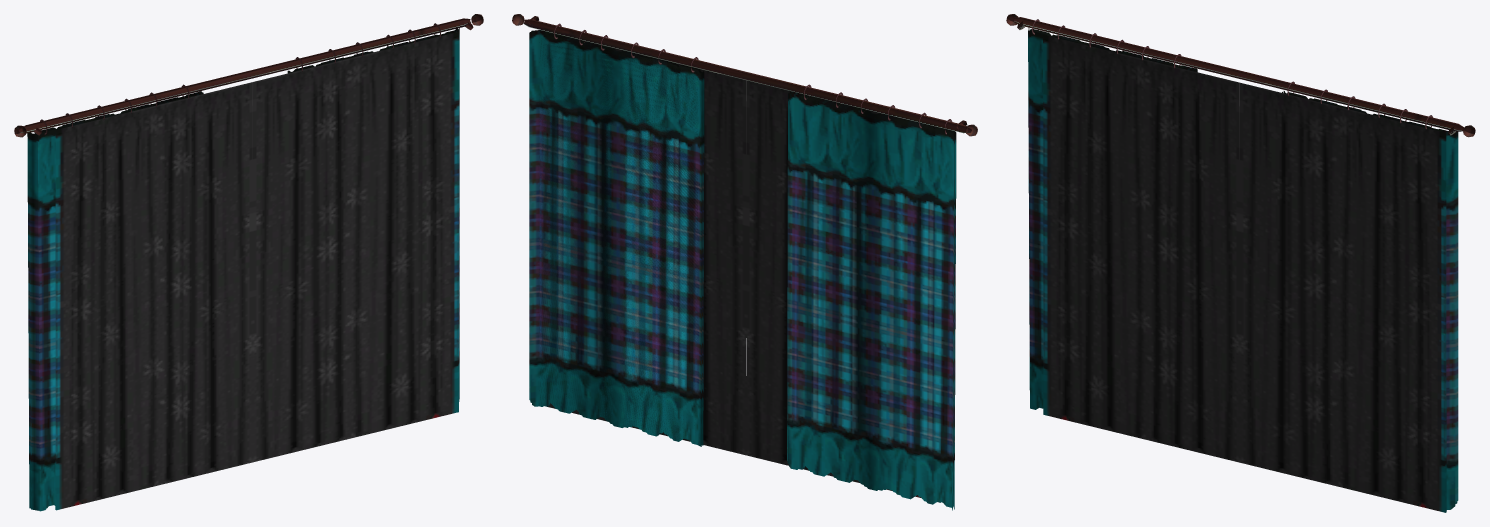
The model's file is furni_0200330_02.FBX.
3 renders of one model, left to right at view 1: azimuth 30°, elevation 25°; view 2: azimuth 150°, elevation 25°; view 3: azimuth 330°, elevation 25°, orthographic.
Visible parts, largest first — view 1: furni_0200330_02; view 2: furni_0200330_02; view 3: furni_0200330_02.
Part boxes in pixels (box(x1,y1,x2,y2)): furni_0200330_02: box(14, 14, 483, 511); furni_0200330_02: box(512, 14, 977, 510); furni_0200330_02: box(1006, 14, 1475, 512).
Size of the model in its own units: 353 by 282 by 14.17.
Materials: 2 (2 with a texture image).
